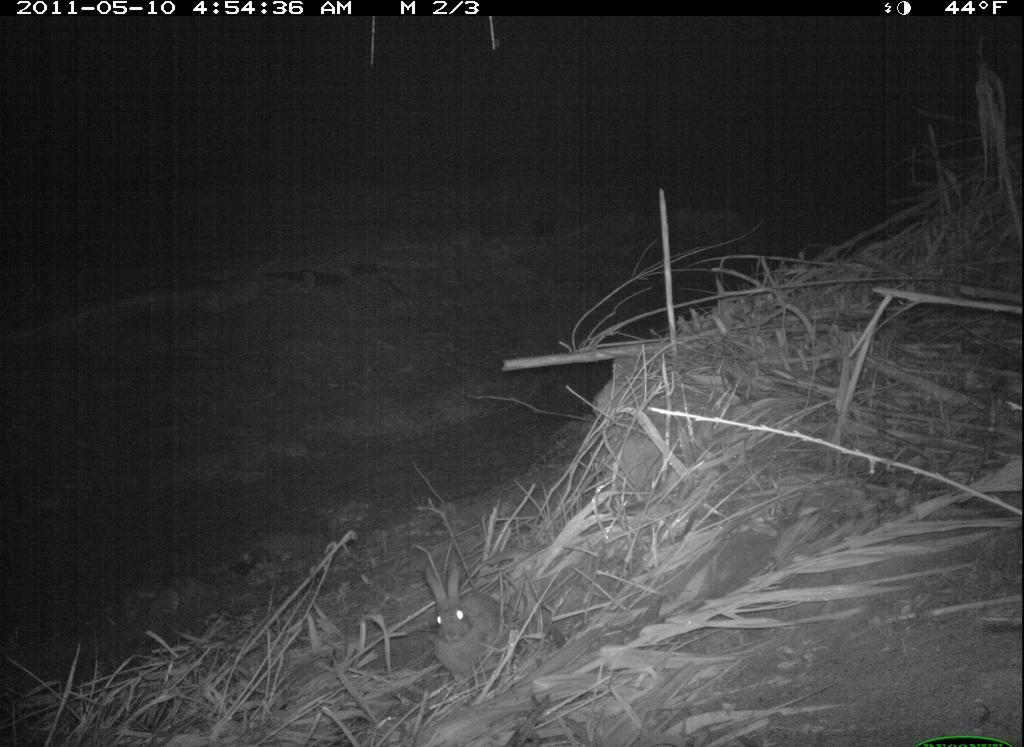rabbit: (415, 553, 513, 692)
